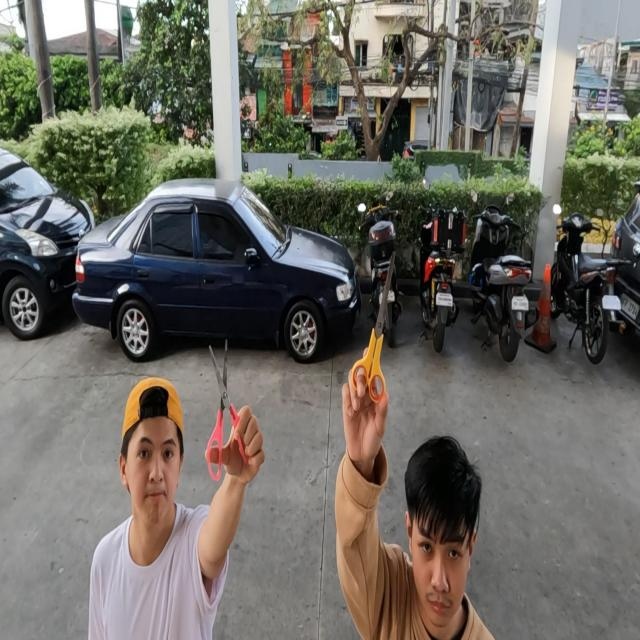scissor: (352, 252, 395, 403), (206, 339, 251, 481)
